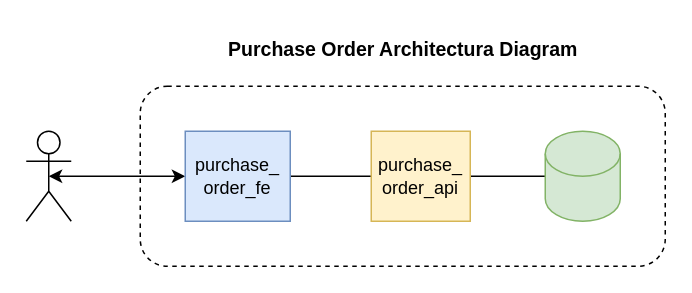
The diagram is 692 pixels wide and 293 high, and some of its shapes have lost their labels. Each missing label, with the centre of its shape:
DB: (582,175)
User: (48,175)
